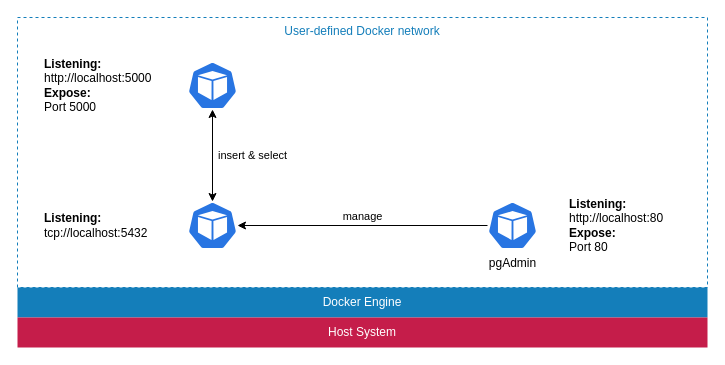
Image size: 725x365. Some labels were removed from this diagram. Each missing label, with the centre of its shape:
IMDb Analyser: (x=212, y=85)
PostgreSQL: (x=212, y=225)
